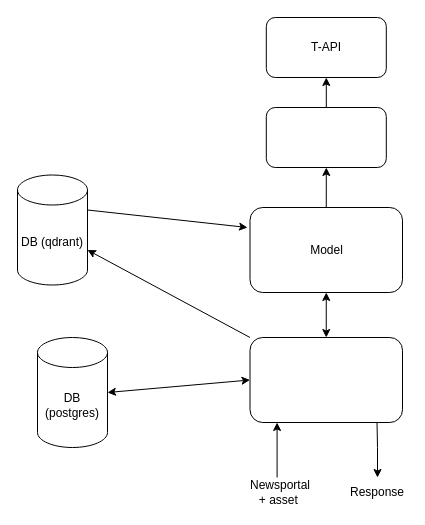
This 425x525 diagram has some shape labels left out. The centre of each missing label's shape, as x and y in pixels:
Backend: point 325,379
MCP: point 325,137
